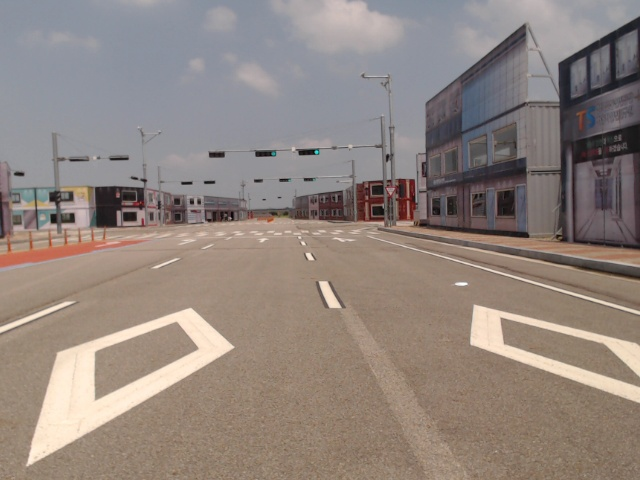straight_green_4: (295, 148, 319, 155), (256, 150, 279, 157), (302, 177, 317, 182), (278, 178, 292, 182)
